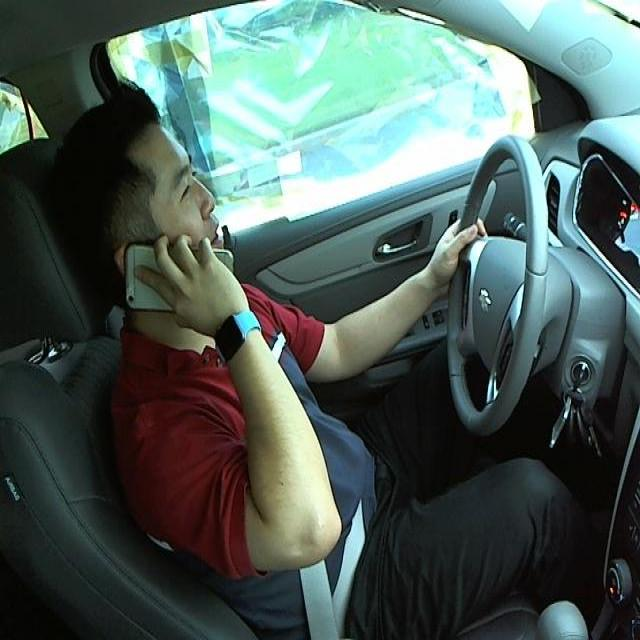using_phone: (15, 87, 304, 402)
